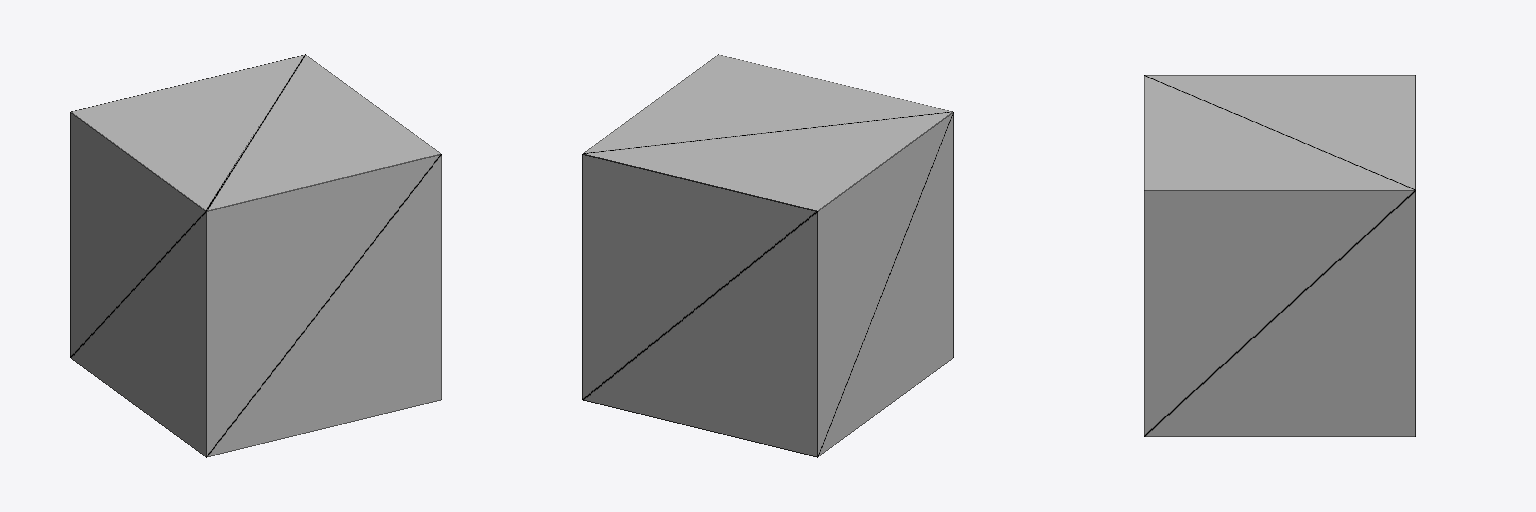
3 renders of one model, left to right at view 1: azimuth 30°, elevation 25°; view 2: azimuth 150°, elevation 25°; view 3: azimuth 270°, elevation 25°, orthographic.
Visible parts, largest first — view 1: Cube; view 2: Cube; view 3: Cube.
Boxes of the visible parts, <box> form: Cube: <box>70,54,441,457</box>; Cube: <box>582,54,953,457</box>; Cube: <box>1144,75,1415,436</box>.
Bounding box in the file's own units: 1 × 1 × 1.
1 materials, 1 textured.